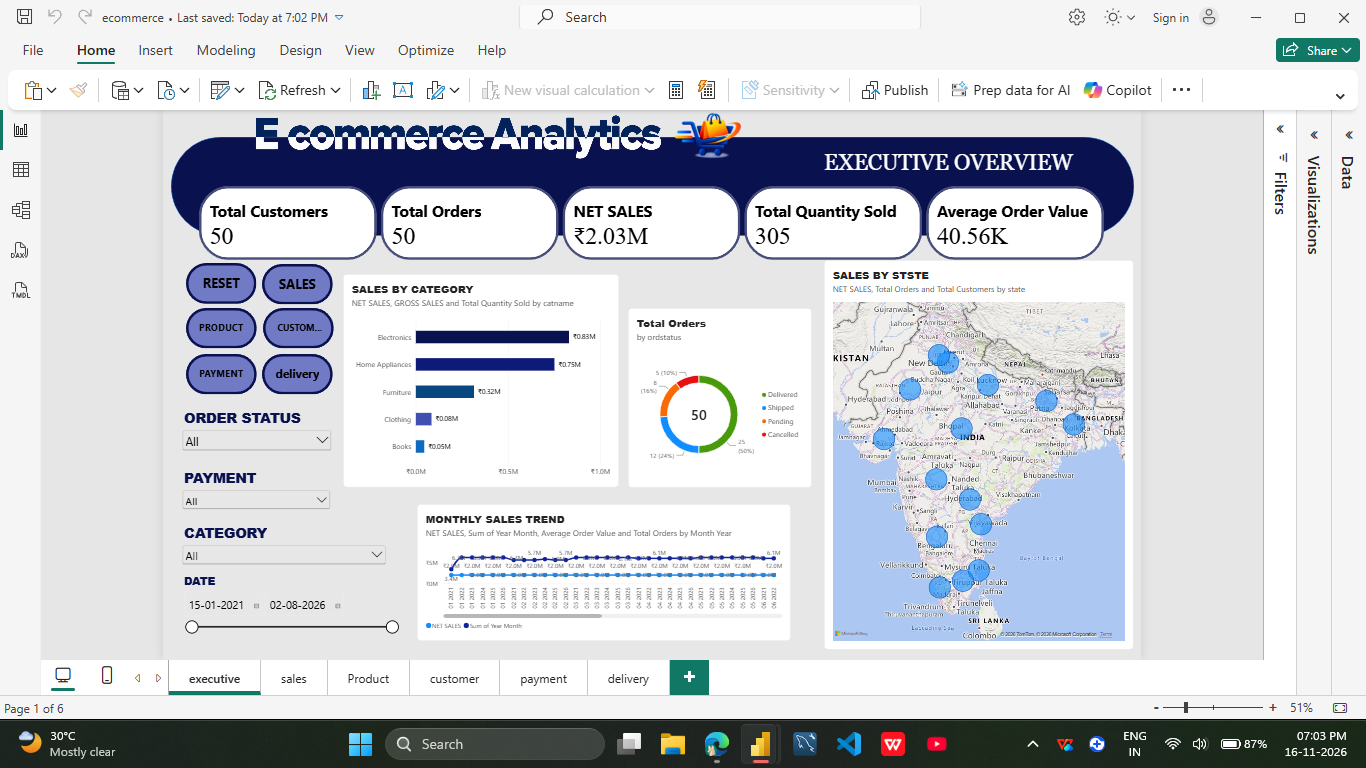

Layout of this report page (visuals, bound fields, positions):
{"tool":"powerbi","page":{"name":"executive","canvas":[1920,1080],"ordinal":0},"visuals":[{"type":"group","id":"g1","title":"Group 1","box":[15.4,0,1891.1,246.9],"z":0},{"type":"shape","box":[15.4,52.9,1891.1,194],"z":1000,"group":"g1"},{"type":"cardVisual","fields":{"Data":["ecom customer.Total Customers","ecom orderss.Total Orders","ecom orderdetails.Net Sales","ecom orderdetails.Total Quantity Sold","ecom orderdetails.Average Order Value"]},"box":[70.5,149.9,1778.7,145.5],"z":2000},{"type":"textbox","box":[1298.2,79.3,551,77.1],"z":3000},{"type":"image","box":[998.4,0,143.3,103.6],"z":4000},{"type":"image","box":[158.7,0,839.8,105.8],"z":5000,"group":"g1"},{"type":"lineChart","title":"MONTHLY SALES TREND","fields":{"Category":["Calendar.Month Year"],"Y":["ecom orderdetails.Net Sales","Sum(Calendar.Year Month)"]},"box":[498.1,773.6,734,268.9],"z":5000},{"type":"donutChart","fields":{"Category":["ecom orderss.ordstatus"],"Y":["ecom orderss.Total Orders"]},"box":[912.5,387.9,361.5,352.7],"z":6000},{"type":"clusteredBarChart","title":"SALES BY CATEGORY","fields":{"Category":["ecom category.catname"],"Y":["ecom orderdetails.Net Sales"]},"box":[352.7,321.8,542.2,418.8],"z":7000},{"type":"slicer","fields":{"Values":["ecom category.catname"]},"box":[33.5,810.4,408.6,82.6],"z":8000},{"type":"actionButton","box":[44.7,301.4,138.4,80.4],"z":9000},{"type":"slicer","fields":{"Values":["Calendar.Date"]},"box":[33.5,908.7,433.1,151.8],"z":10000},{"type":"slicer","fields":{"Values":["ecom payment.payment_status"]},"box":[33.5,703.3,299.8,108],"z":11000},{"type":"actionButton","box":[194,302,138.9,79.3],"z":12000},{"type":"map","title":"SALES BY STSTE","fields":{"Category":["ecom customer.state"],"Size":["ecom orderdetails.NET SALES"]},"box":[1298.2,295.3,608.3,764.8],"z":13000},{"type":"slicer","title":"ORDER STATUS","fields":{"Values":["ecom orderss.ordstatus"]},"box":[33.5,584.9,302,119],"z":14000},{"type":"actionButton","box":[194.2,480,138.9,79.3],"z":14001},{"type":"actionButton","box":[196.5,388.5,138.9,79.3],"z":14002},{"type":"actionButton","box":[44.7,388.5,138.9,79.3],"z":14003},{"type":"actionButton","box":[44.7,480,138.9,79.3],"z":14004}]}

Visuals, with their boxes on the page's 1920x1080 design canvas (x1, y1, x2, y2). These are canvas units, not pixel positions in the 1366x768 screenshot, which may show the page scaled, cropped or inside an application window:
"Group 1" group: detection(15, 0, 1906, 247)
shape: detection(15, 53, 1906, 247)
cardVisual - ecom customer.Total Customers x ecom orderss.Total Orders: detection(70, 150, 1849, 295)
textbox: detection(1298, 79, 1849, 156)
image: detection(998, 0, 1142, 104)
image: detection(159, 0, 998, 106)
"MONTHLY SALES TREND" lineChart: detection(498, 774, 1232, 1042)
donutChart - ecom orderss.ordstatus x ecom orderss.Total Orders: detection(912, 388, 1274, 741)
"SALES BY CATEGORY" clusteredBarChart: detection(353, 322, 895, 741)
slicer - ecom category.catname: detection(34, 810, 442, 893)
actionButton: detection(45, 301, 183, 382)
slicer - Calendar.Date: detection(34, 909, 467, 1060)
slicer - ecom payment.payment_status: detection(34, 703, 333, 811)
actionButton: detection(194, 302, 333, 381)
"SALES BY STSTE" map: detection(1298, 295, 1906, 1060)
"ORDER STATUS" slicer: detection(34, 585, 336, 704)
actionButton: detection(194, 480, 333, 559)
actionButton: detection(196, 388, 335, 468)
actionButton: detection(45, 388, 184, 468)
actionButton: detection(45, 480, 184, 559)
